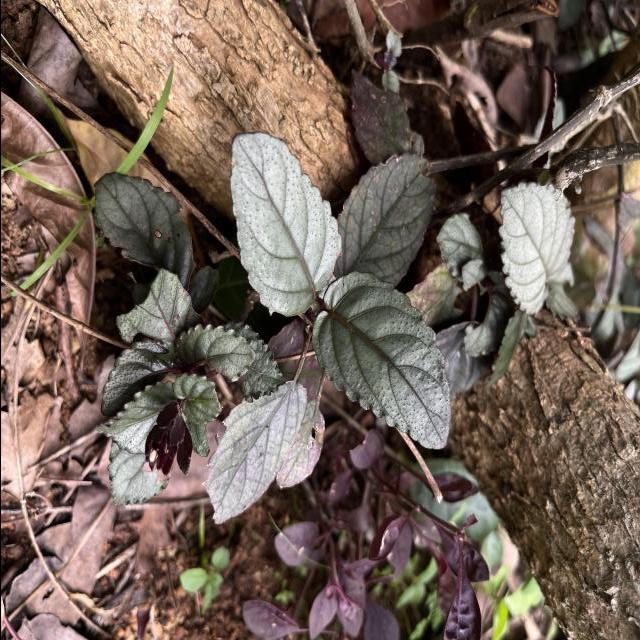Hemigraphis colorata: (308, 268, 454, 453), (228, 128, 344, 320), (198, 378, 311, 530), (334, 150, 441, 294), (496, 177, 576, 318)
